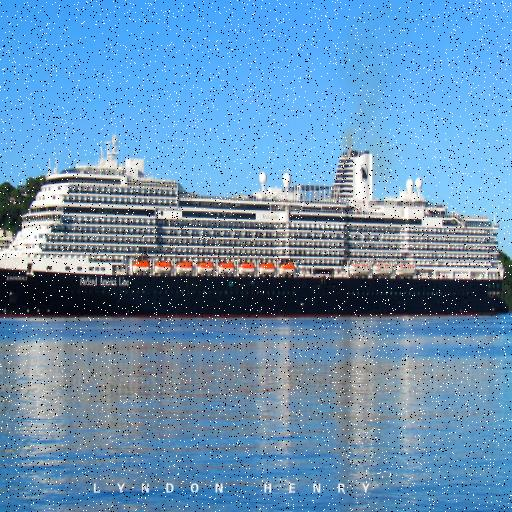cruises: (1, 130, 512, 322)
